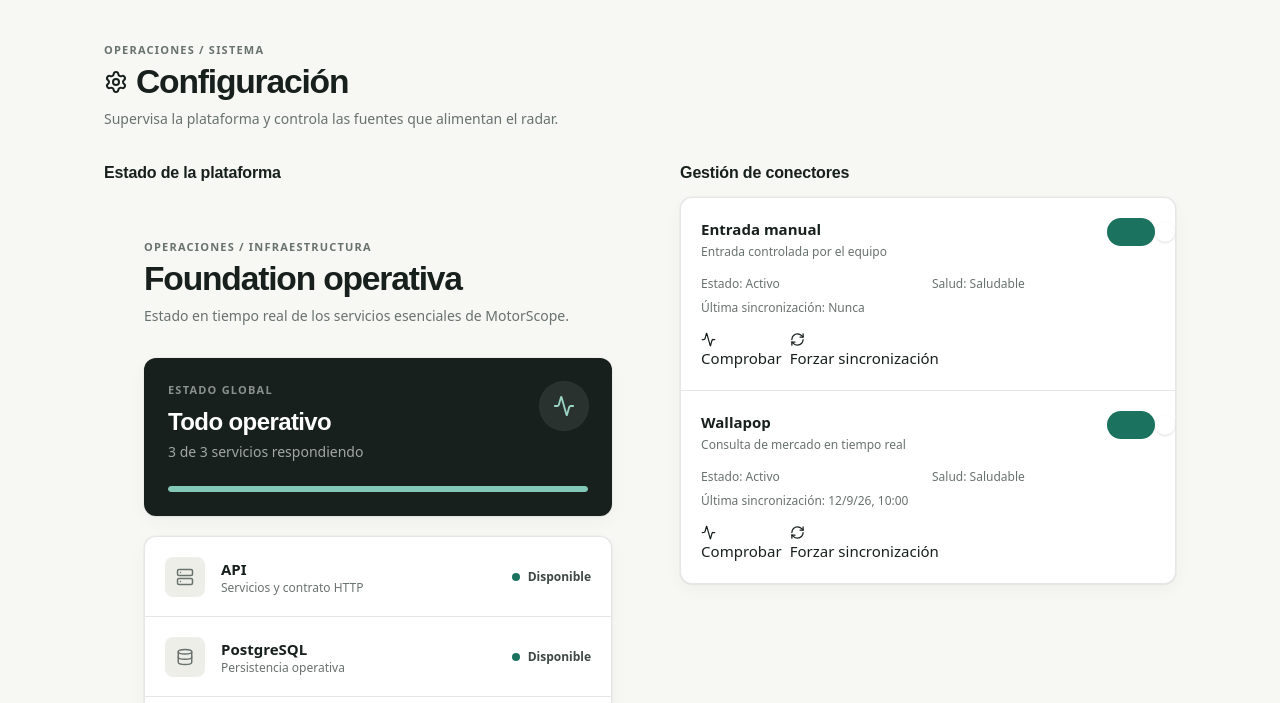
it: explains why the final active connector cannot be disabled
The image size is (1280, 703).
Expected: the heading "Entrada manual" is shown, x1=701 y1=219 x2=821 y2=239
Click the switch named "Entrada manual": point(1131, 232) x1=1107 y1=218 x2=1155 y2=246
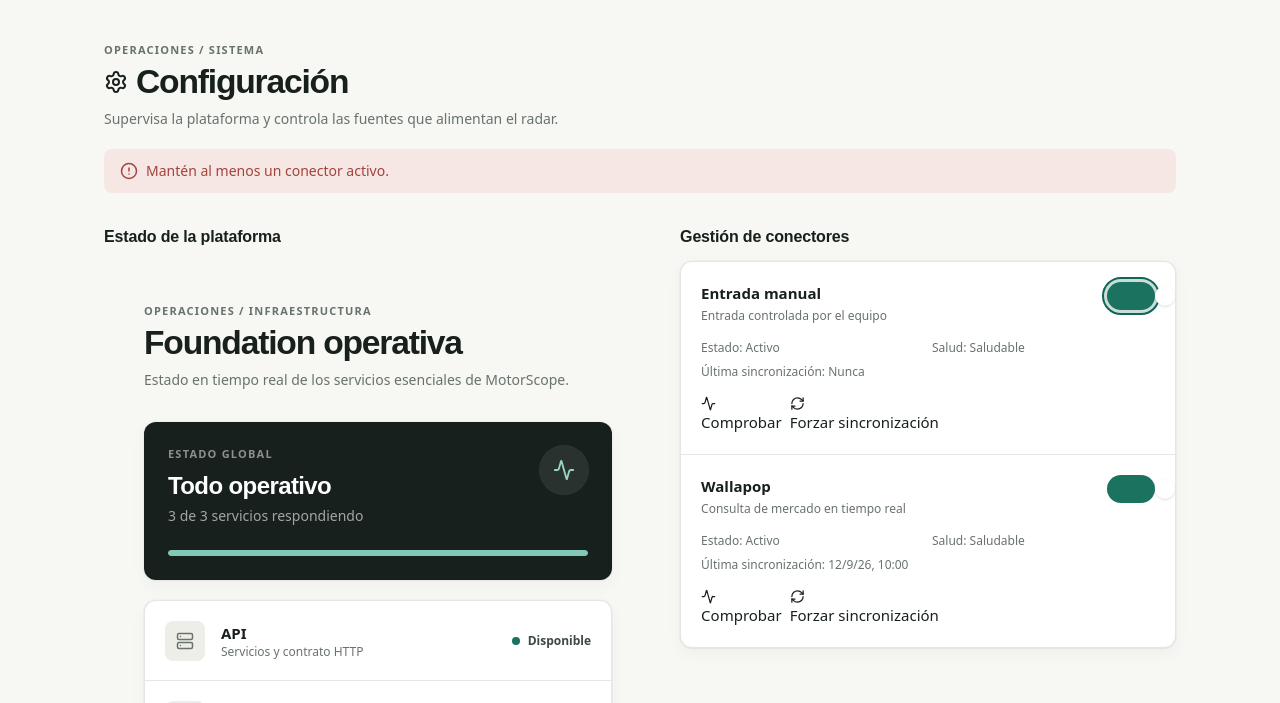
Expected: the message shows "Mantén al menos un conector activo", x1=146 y1=161 x2=389 y2=180
